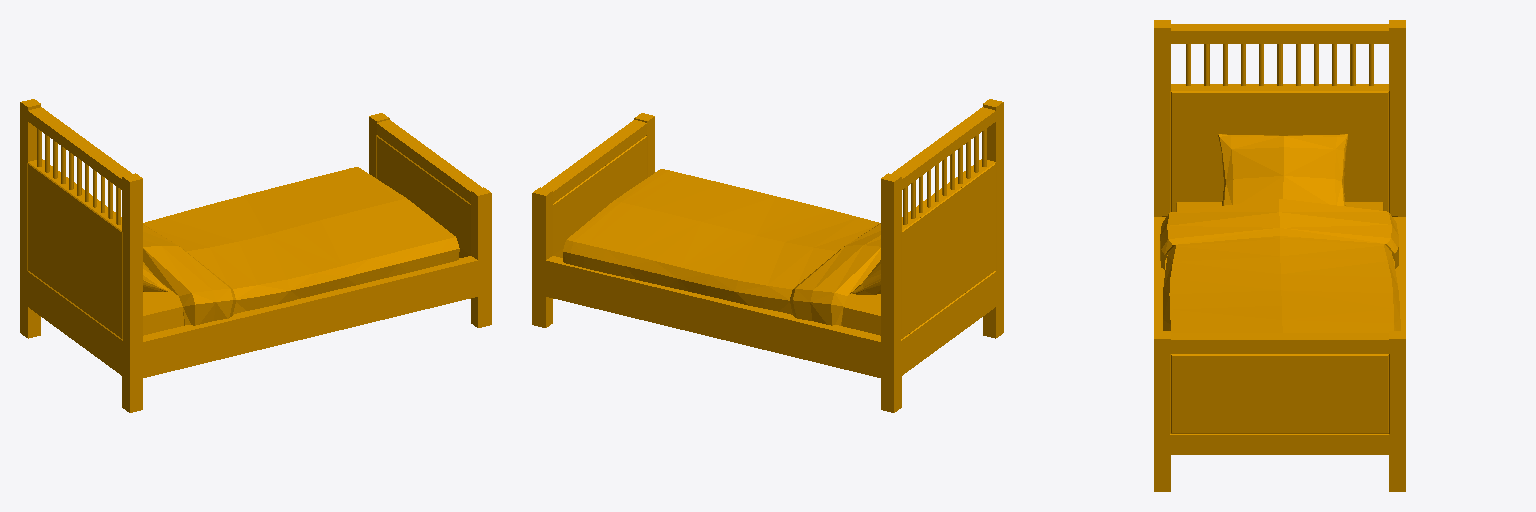
URDF robot description (may56fwM):
<?xml version='1.0' encoding='us-ascii'?>
<robot name="may56fwM">
   <link name="base_link">
      <visual>
         <origin xyz="0.0 0.0 0.0" />
         <geometry>
            <mesh filename="shape\visual\bed-jpuihb-0.obj" />
         </geometry>
      </visual>
      <collision>
         <origin xyz="0.0 0.0 0.0" />
         <geometry>
            <mesh filename="shape\collision\bed-jpuihb-0.obj" />
         </geometry>
      </collision>
   </link>
</robot>

--- What the picture shows (computed from the rendered views, not written in the file) ---
The picture shows the robot from 3 angles, left to right: view 1: azimuth 30°, elevation 25°; view 2: azimuth 150°, elevation 25°; view 3: azimuth 270°, elevation 25°; orthographic projection.
Model may56fwM with 1 links and 0 joints (none), rooted at base_link, posed all joints at 0.
Visible links, largest first — view 1: base_link; view 2: base_link; view 3: base_link.
Link boxes in pixels (x1,y1,x2,y2): base_link: (20,99,491,412); base_link: (532,99,1003,412); base_link: (1154,20,1405,491).
Bounding box of the posed robot: 1.98 × 1.04 × 1.21 m (x, y, z).
1 mesh visuals loaded from 1 distinct referenced files (1 OBJ).
